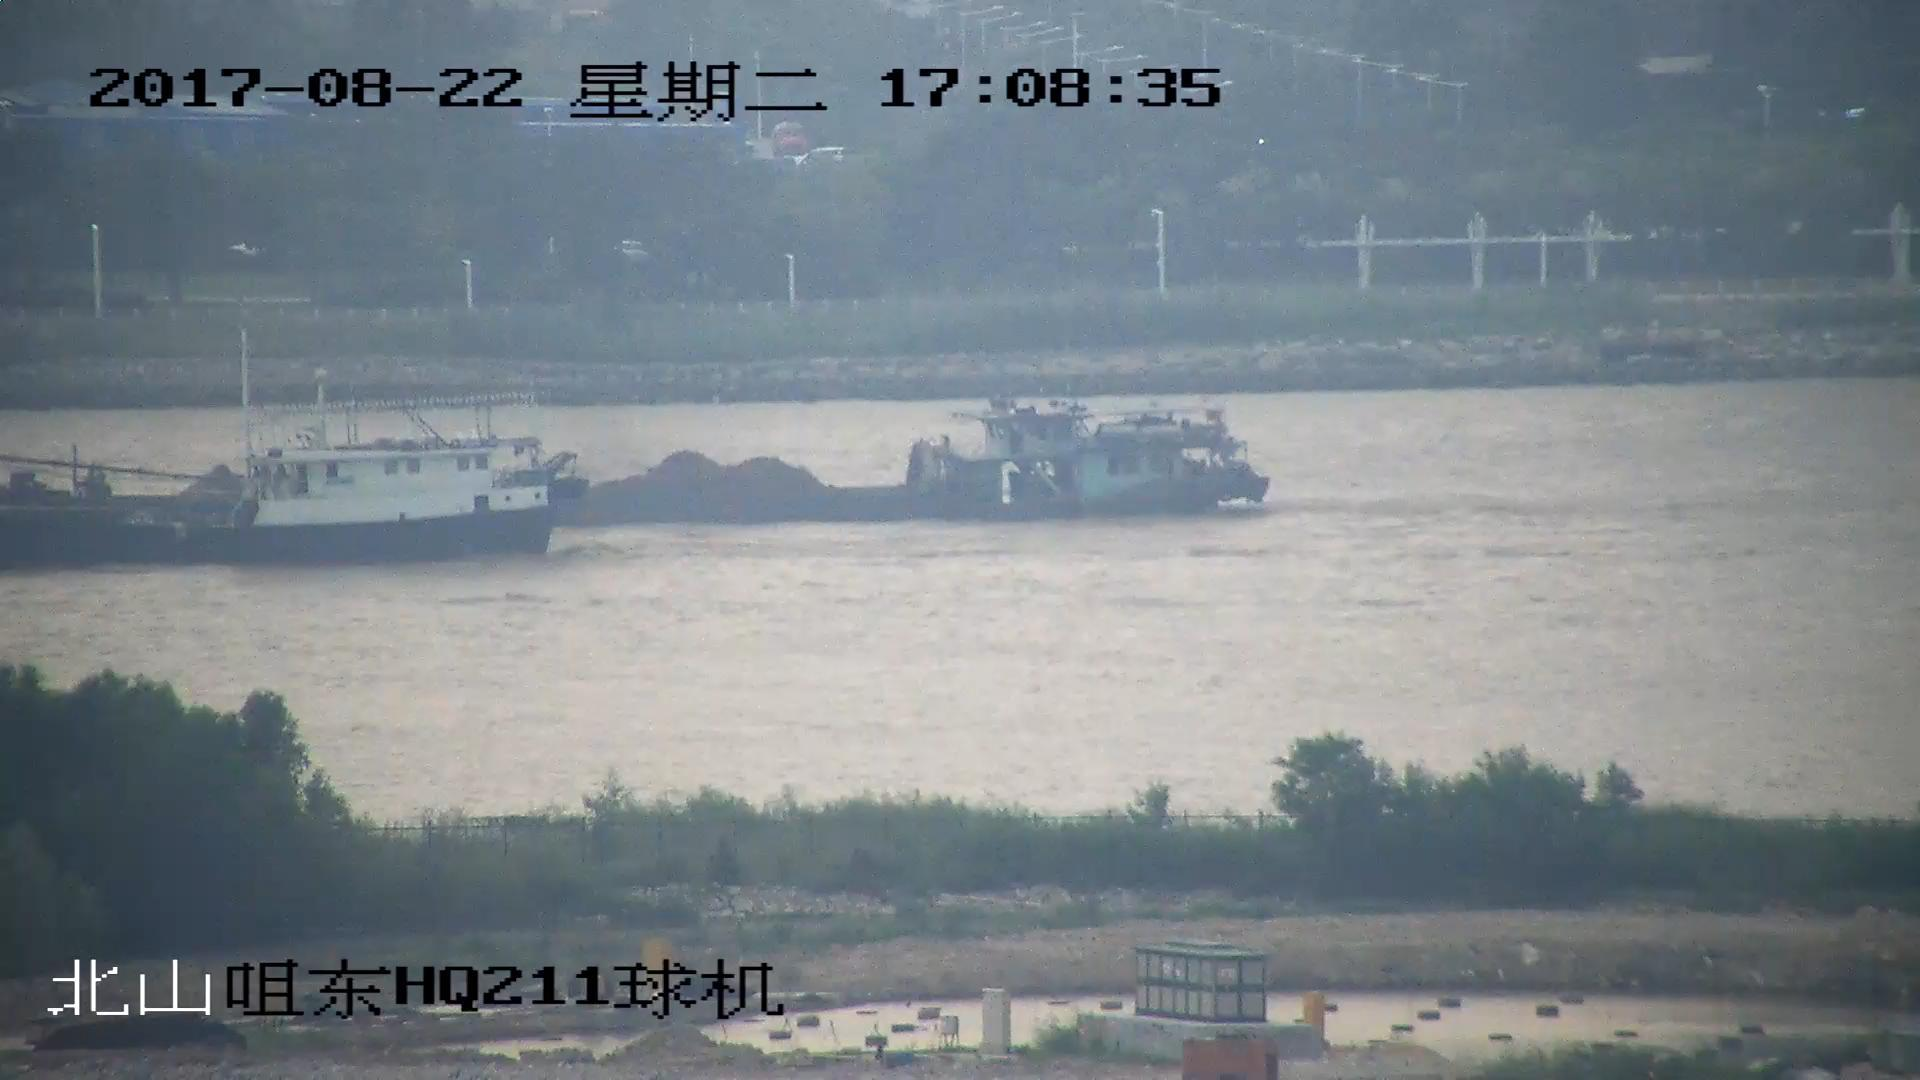Ship: (3, 396, 1280, 527), (3, 380, 560, 568)
